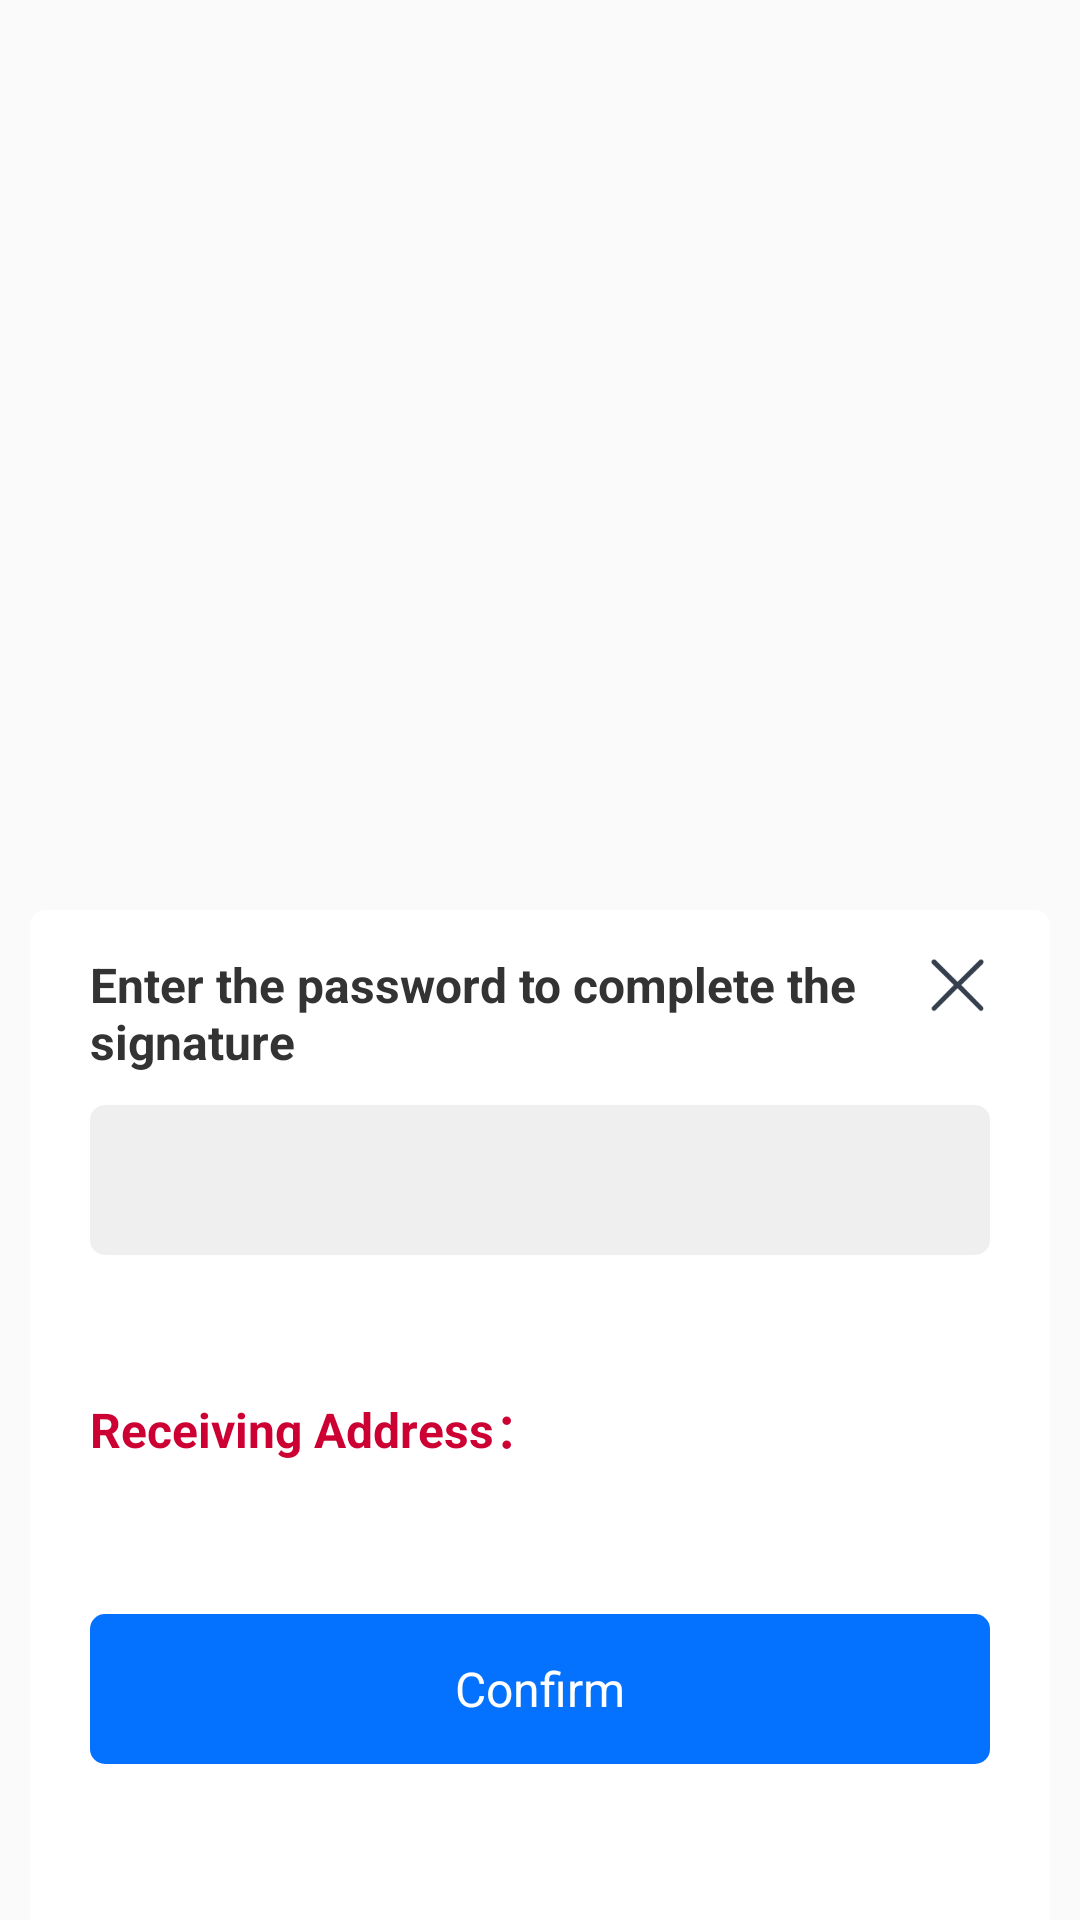

Icons on this 1080 x 1920 Android screen, each with its box as rect(x1, y1, x2, y2):
close: rect(931, 959, 984, 1011)
